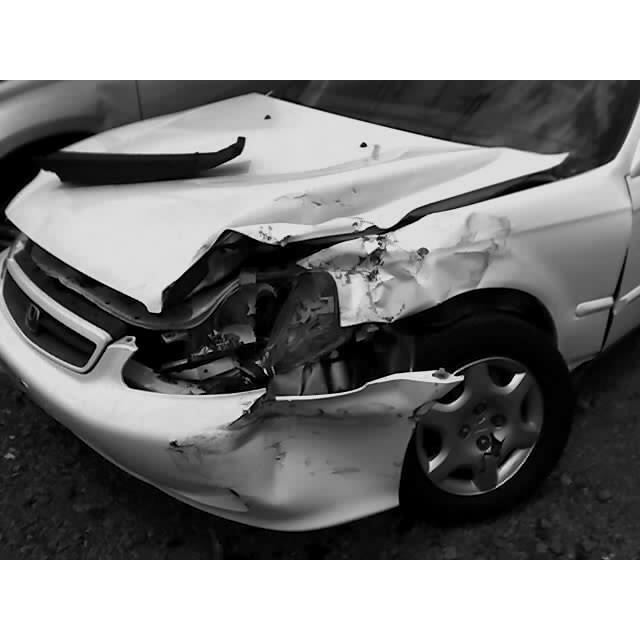Headlight-damage: (165, 264, 352, 354)
bonnet-dent: (97, 115, 476, 247)
fender-dent: (407, 208, 583, 353)
front-bumper-dent: (67, 352, 443, 517)
